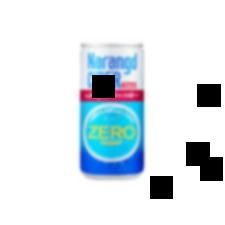narangdcider: (77, 42, 147, 178)
